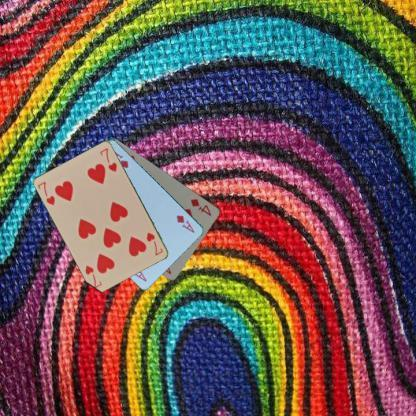4d: (188, 196, 213, 218)
7h: (144, 230, 165, 257), (36, 179, 56, 207)
Ad: (174, 213, 196, 234)
